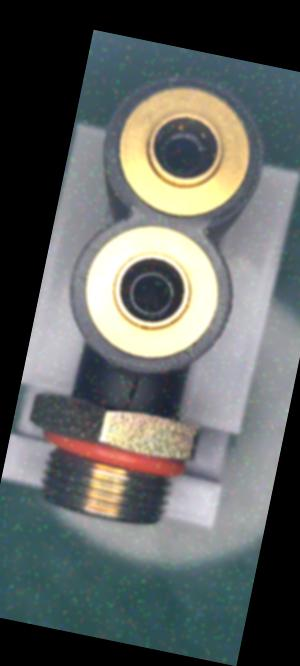craze: (120, 372, 145, 414)
